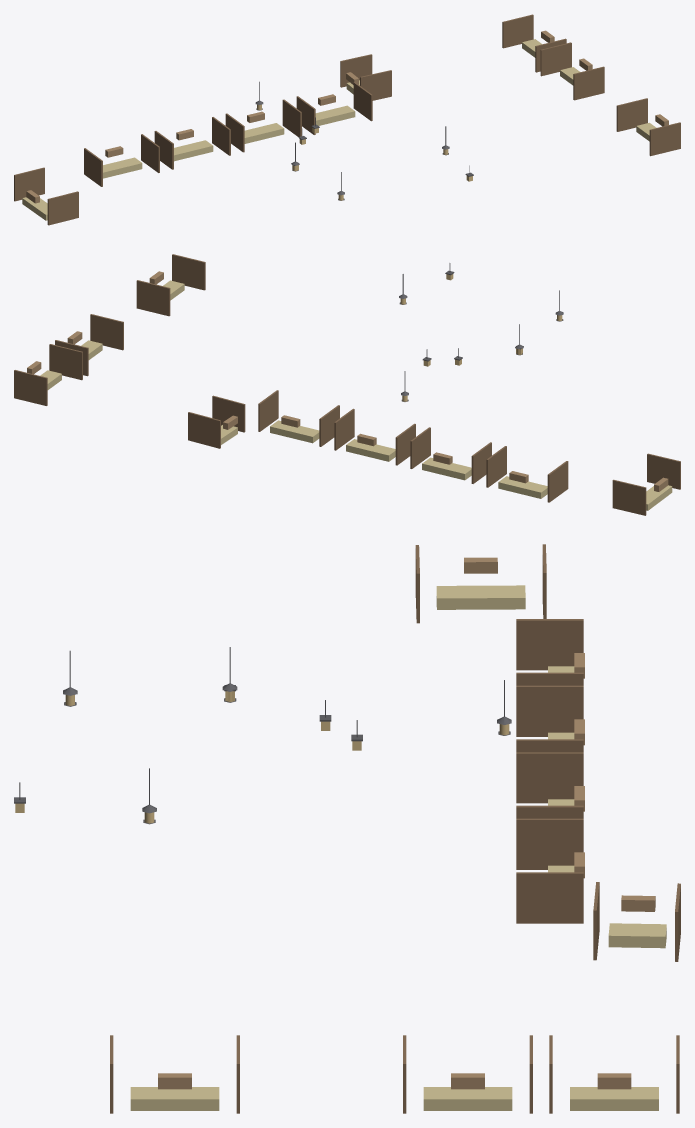
File: interior_s01.glb
3 views of the same model, one above another, from view 1: azimuth 30°, elevation 25°; view 2: azimuth 150°, elevation 25°; view 3: azimuth 270°, elevation 25° (orthographic). The views are drawn at different scales.
Visible parts, largest first — view 1: Interior_S01_mesh; view 2: Interior_S01_mesh; view 3: Interior_S01_mesh.
Boxes of the visible parts, x1=… form: Interior_S01_mesh: x1=14, y1=14, x2=680, y2=225; Interior_S01_mesh: x1=14, y1=254, x2=680, y2=515; Interior_S01_mesh: x1=14, y1=544, x2=680, y2=1113.
Size of the model in its own units: 29.12 by 3.5 by 15.78.
